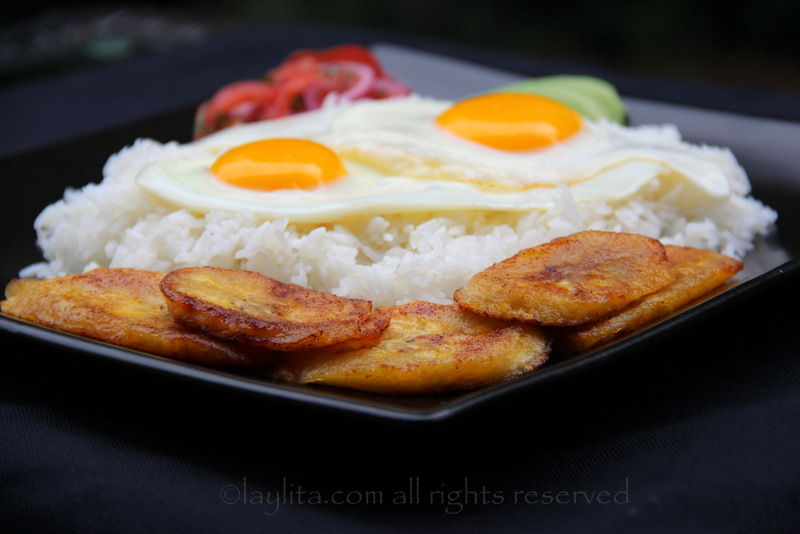boiled potatoes: (68, 270, 662, 386)
fried egg: (382, 89, 702, 199), (164, 129, 413, 210)
plain rice: (34, 195, 506, 273), (528, 193, 748, 240)
